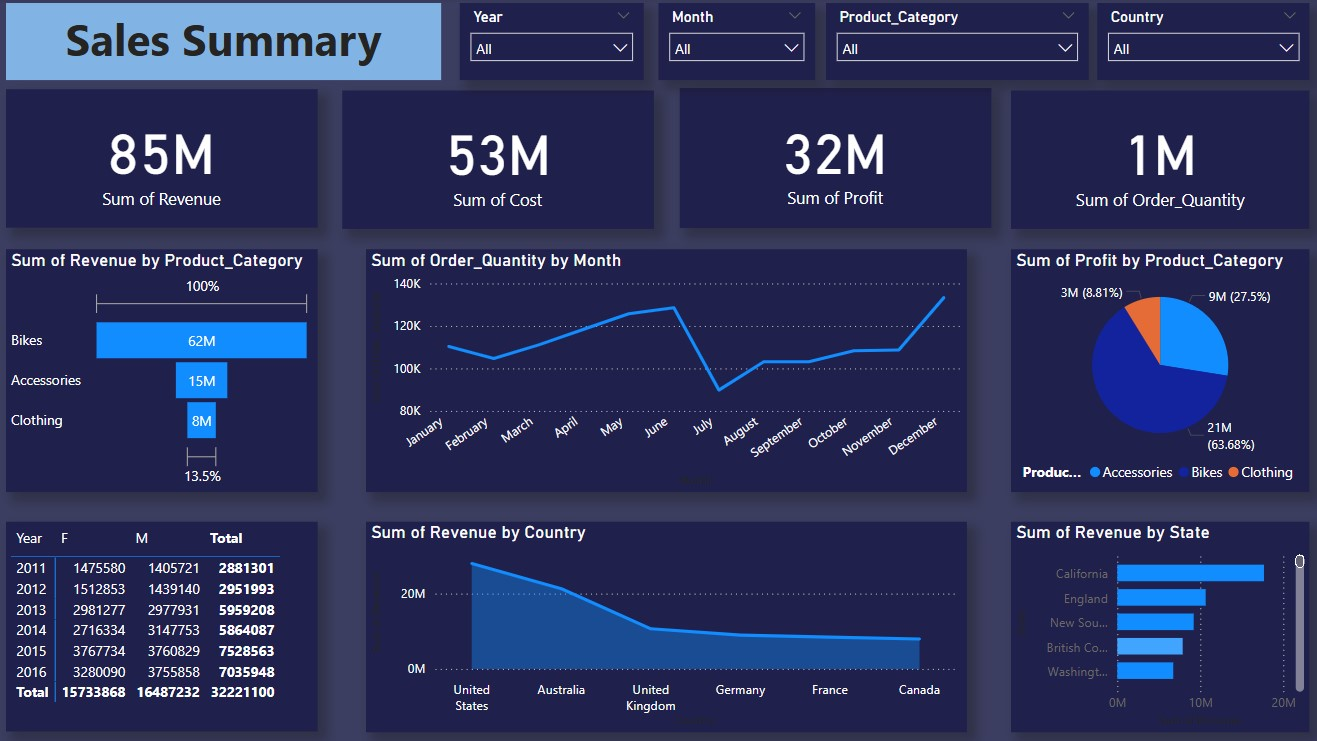

What the dashboard file says about the page in this screenshot:
{"tool":"powerbi","page":{"name":"Dashboard","canvas":[1280,720],"ordinal":1},"visuals":[{"type":"card","fields":{"Values":["Sum(Sales.Profit)"]},"box":[659.9,86.9,300.4,135.1],"z":0},{"type":"card","fields":{"Values":["Sum(Sales.Revenue)"]},"box":[9.7,88.1,300.4,133.9],"z":1000},{"type":"card","fields":{"Values":["Sum(Sales.Cost)"]},"box":[334.2,89.3,300.4,133.9],"z":2000},{"type":"textbox","box":[9.7,4.8,419.8,74.8],"z":3000},{"type":"slicer","fields":{"Values":["Sales.Month"]},"box":[639.4,4.8,150.8,74.8],"z":4000},{"type":"slicer","fields":{"Values":["Sales.Product_Category"]},"box":[801.1,4.8,253.4,74.8],"z":5000},{"type":"slicer","fields":{"Values":["Sales.Country"]},"box":[1062.9,4.8,205.1,74.8],"z":6000},{"type":"slicer","fields":{"Values":["Sales.Year"]},"box":[447.6,4.8,177.3,74.8],"z":7000},{"type":"card","fields":{"Values":["Sum(Sales.Order_Quantity)"]},"box":[979.6,89.3,288.3,133.9],"z":8000},{"type":"pieChart","fields":{"Y":["Sum(Sales.Profit)"],"Series":["Sales.Product_Category"]},"box":[979.6,242.5,288.3,234],"z":9000},{"type":"pivotTable","fields":{"Rows":["Sales.Date.Variation.Date Hierarchy.Year"],"Values":["Sum(Sales.Profit)"],"Columns":["Sales.Customer_Gender"]},"box":[9.7,505.5,300.4,202.7],"z":10000},{"type":"funnel","fields":{"Category":["Sales.Product_Category"],"Y":["Sum(Sales.Revenue)"]},"box":[9.7,242.5,300.4,234],"z":11000},{"type":"lineChart","fields":{"Y":["Sum(Sales.Order_Quantity)"],"Category":["Sales.Date.Variation.Date Hierarchy.Month"]},"box":[357.1,242.5,580.3,234],"z":12000},{"type":"stackedAreaChart","fields":{"Y":["Sum(Sales.Revenue)"],"Category":["Sales.Country"]},"box":[357,505,580,203],"z":13000},{"type":"barChart","fields":{"Y":["Sum(Sales.Revenue)"],"Category":["Sales.State"]},"box":[980,505,288,203],"z":14000}]}

Visuals, with their boxes in screenshot pixels (x1, y1, x2, y2), scaled from the page's 1280x720 canvas onto the 1317x741 screenshot:
card - Sum(Sales.Profit): l=679, t=89, r=988, b=228
card - Sum(Sales.Revenue): l=10, t=91, r=319, b=228
card - Sum(Sales.Cost): l=344, t=92, r=653, b=230
textbox: l=10, t=5, r=442, b=82
slicer - Sales.Month: l=658, t=5, r=813, b=82
slicer - Sales.Product_Category: l=824, t=5, r=1085, b=82
slicer - Sales.Country: l=1094, t=5, r=1305, b=82
slicer - Sales.Year: l=461, t=5, r=643, b=82
card - Sum(Sales.Order_Quantity): l=1008, t=92, r=1305, b=230
pieChart - Sum(Sales.Profit) x Sales.Product_Category: l=1008, t=250, r=1305, b=490
pivotTable - Sales.Date.Variation.Date Hierarchy.Year x Sum(Sales.Profit): l=10, t=520, r=319, b=729
funnel - Sales.Product_Category x Sum(Sales.Revenue): l=10, t=250, r=319, b=490
lineChart - Sum(Sales.Order_Quantity) x Sales.Date.Variation.Date Hierarchy.Month: l=367, t=250, r=964, b=490
stackedAreaChart - Sum(Sales.Revenue) x Sales.Country: l=367, t=520, r=964, b=729
barChart - Sum(Sales.Revenue) x Sales.State: l=1008, t=520, r=1305, b=729
